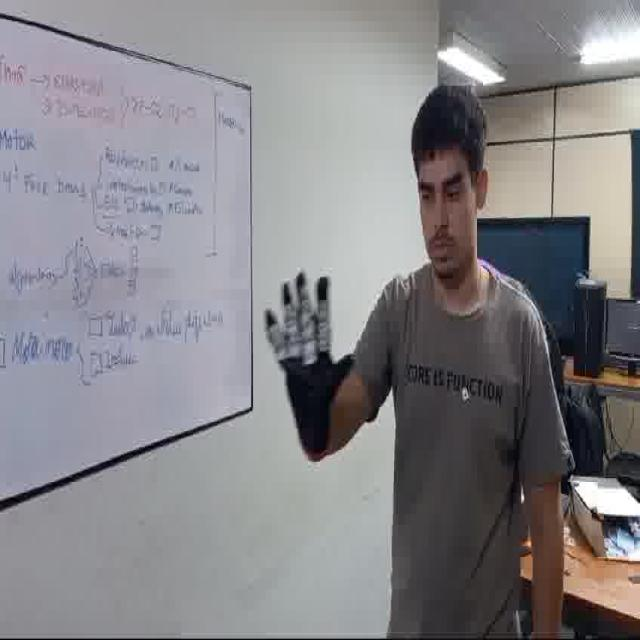Gloves: (262, 264, 358, 459)
